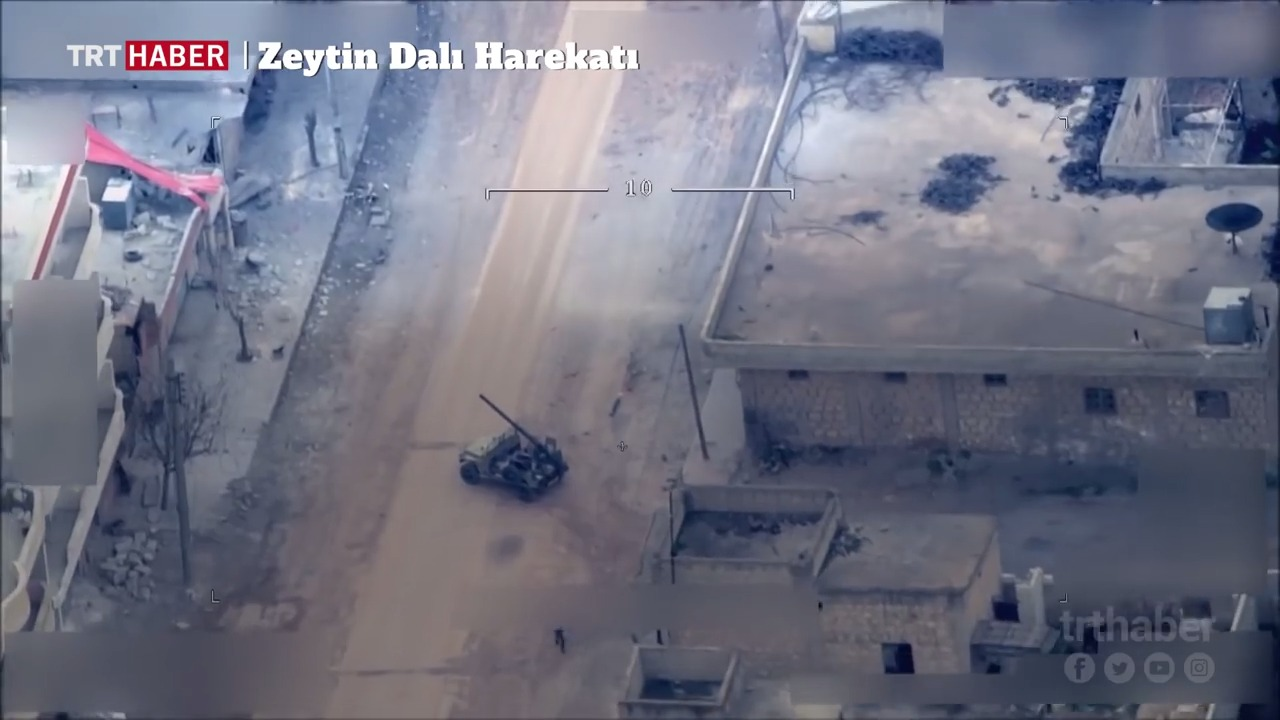arac: (453, 387, 567, 509)
insan: (551, 623, 573, 655)
